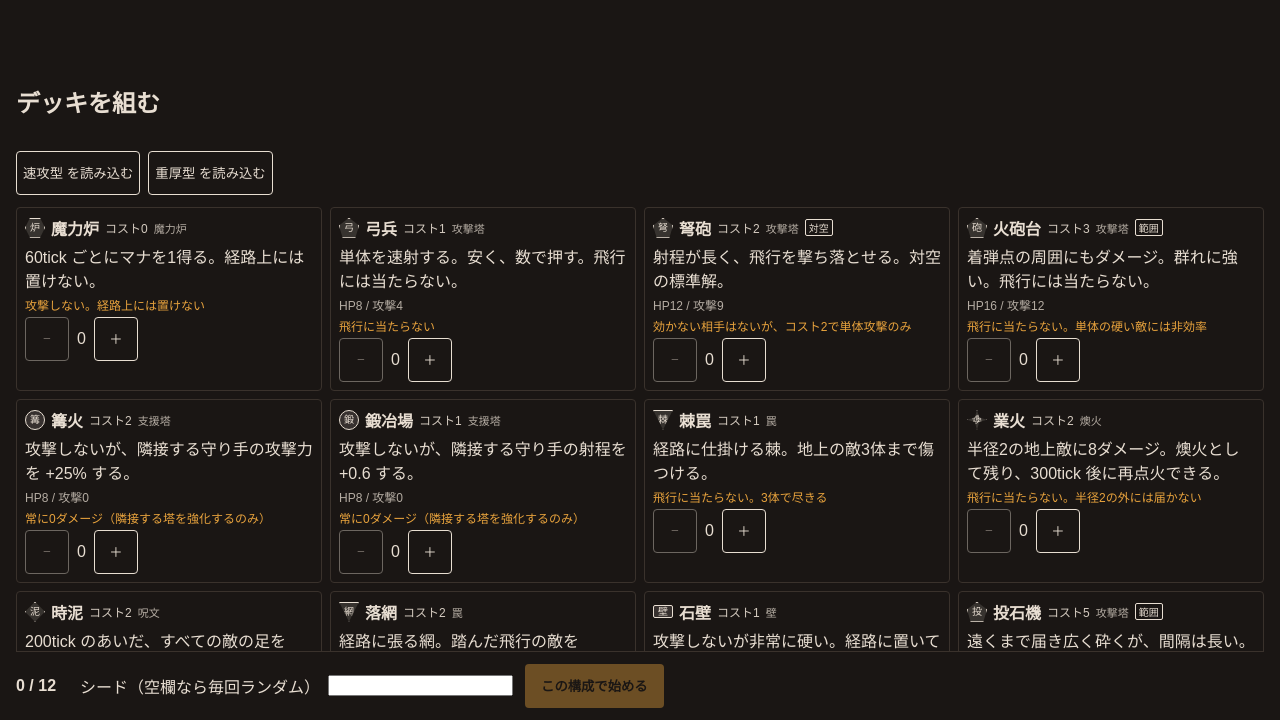
Test: DeckBuilder › 魔力炉も同名上限に達すると増やすボタンが無効になる（反復6 で例外を外した）
This screenshot has width=1280, height=720.
Click the button named "魔力炉 を1枚増やす" at (116, 339), box [94,317,138,361]
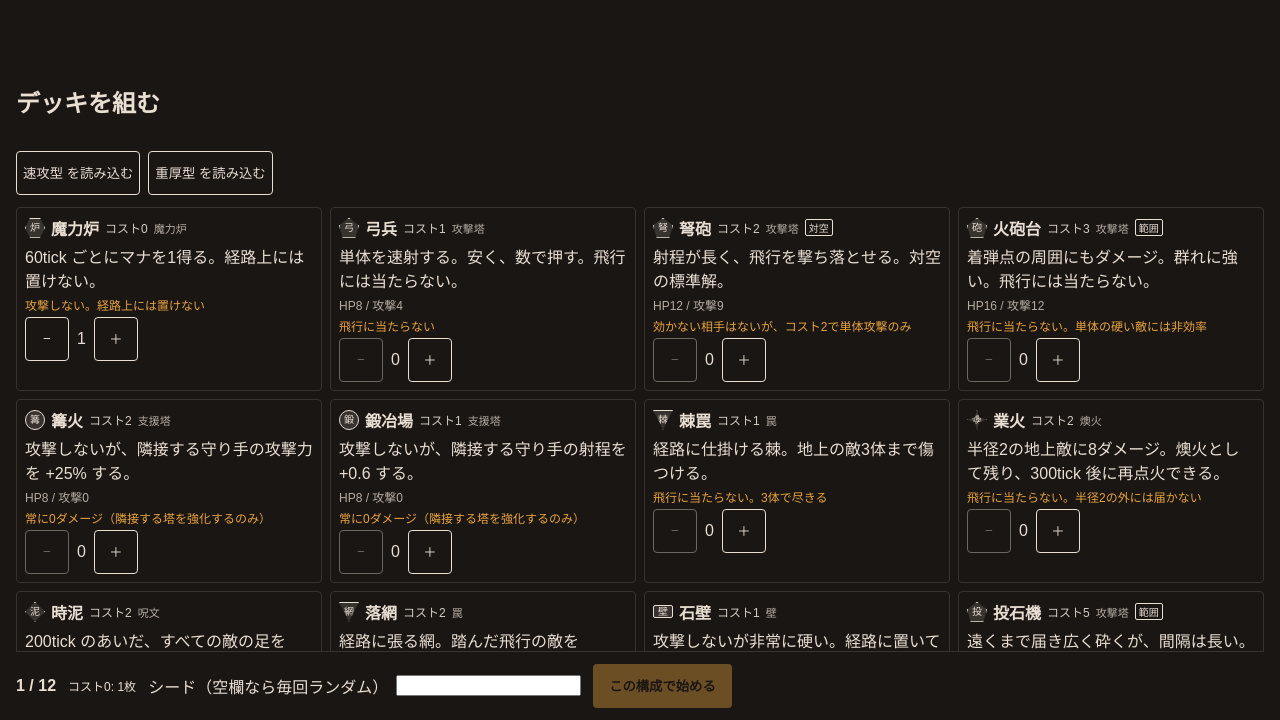
Click the button named "魔力炉 を1枚増やす" at (116, 339), box [94,317,138,361]
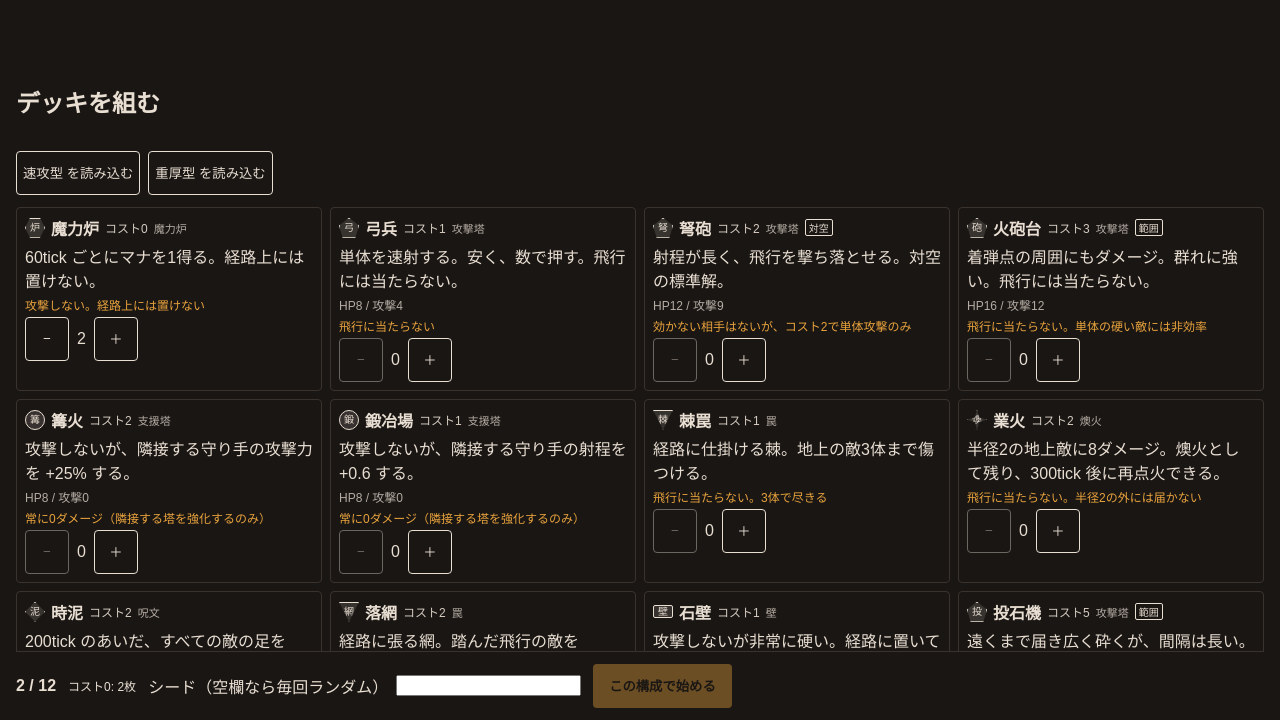
Click the button named "魔力炉 を1枚増やす" at (116, 339), box [94,317,138,361]
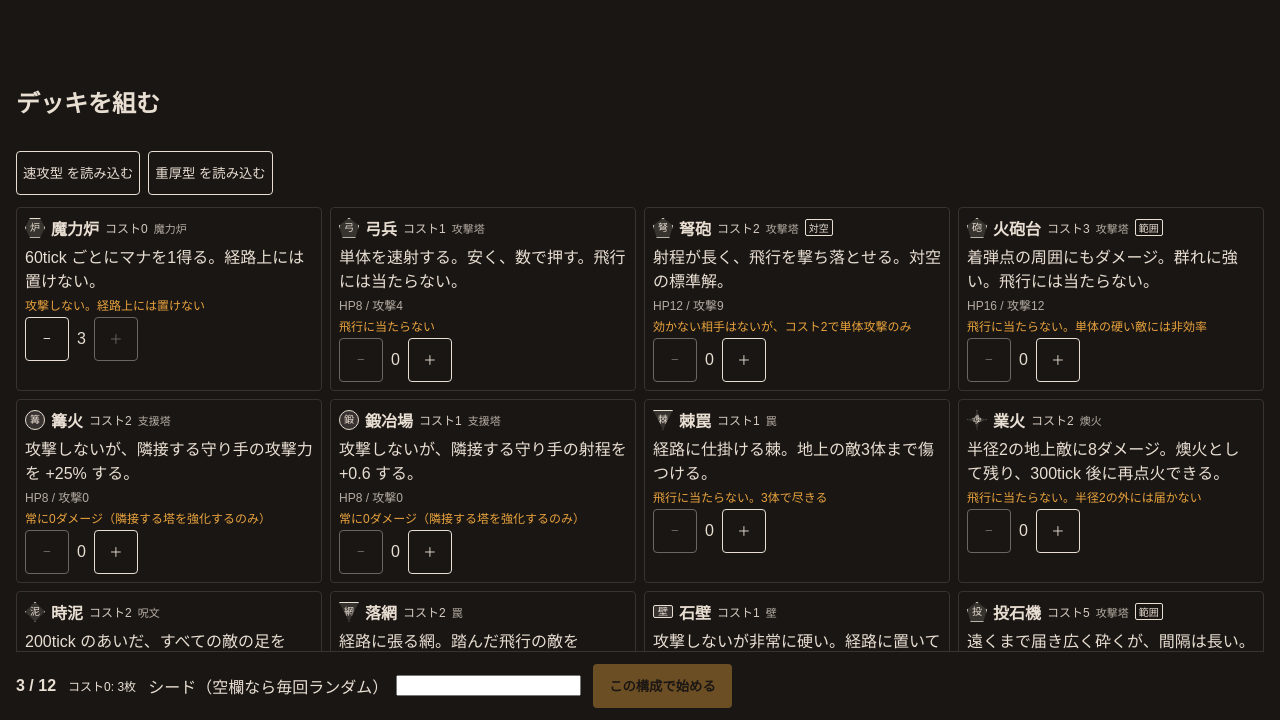
Expected: the button named "魔力炉 を1枚増やす" is disabled, [94,317,138,361]
